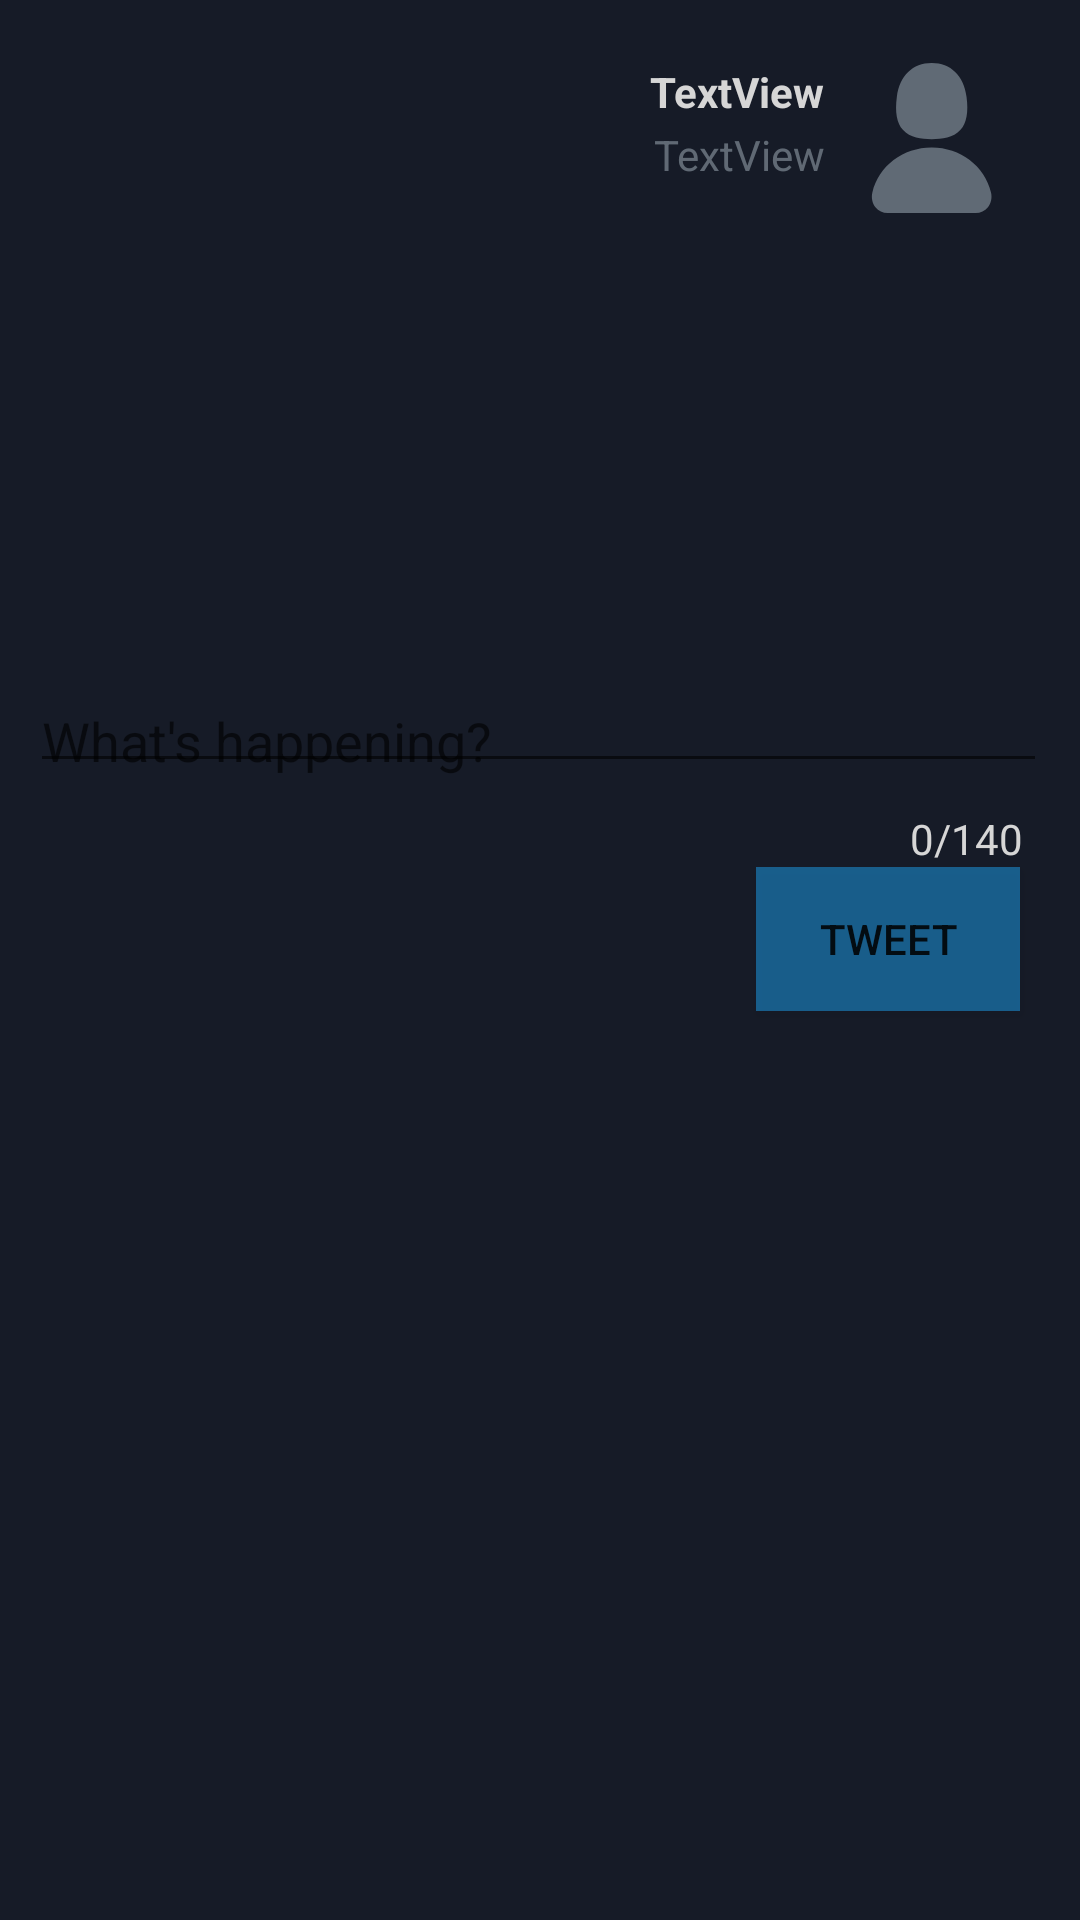

Where icons sit on this 1080px x 1920px app screen, as (x1, y1, x2, y2):
person: (872, 63, 992, 213)
